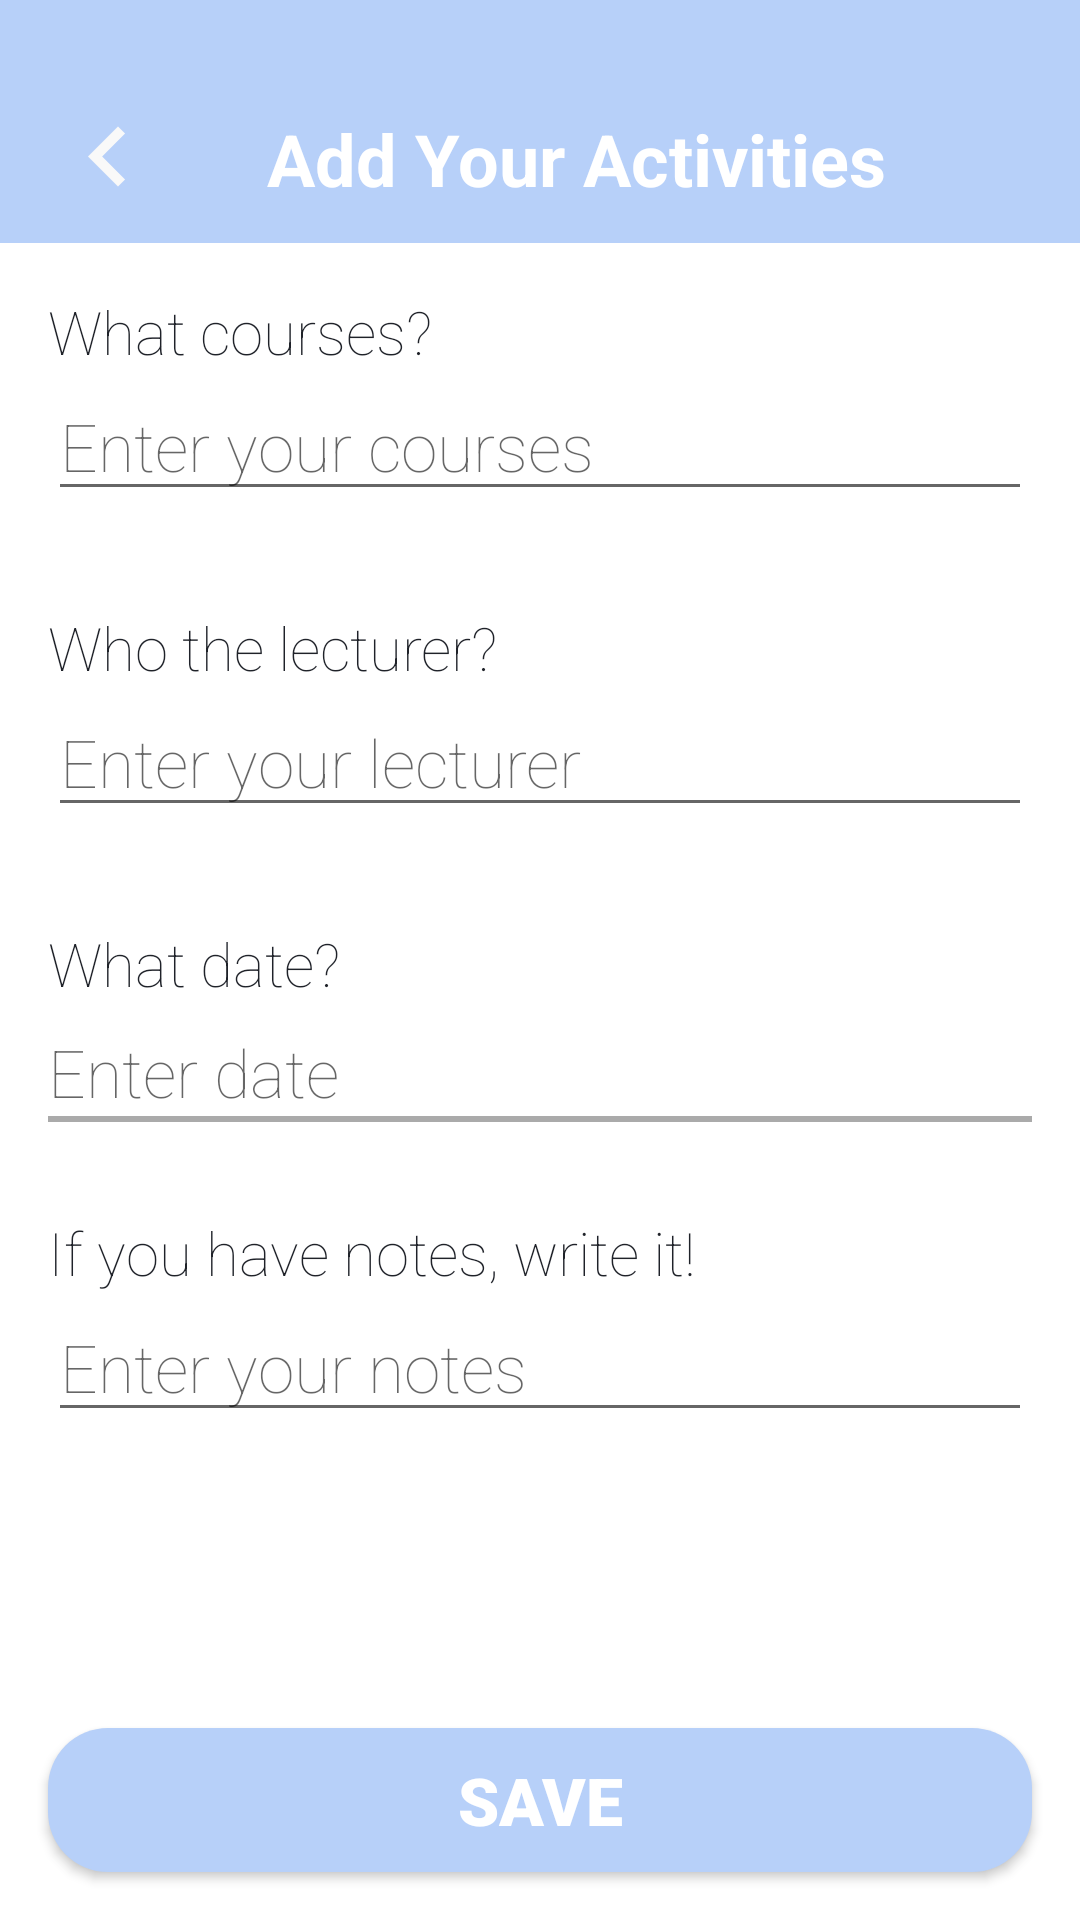

Where to tap for icons on this 1080 x 1920 app screen, as [x,y]:
keyboard arrow left: [106,156]
